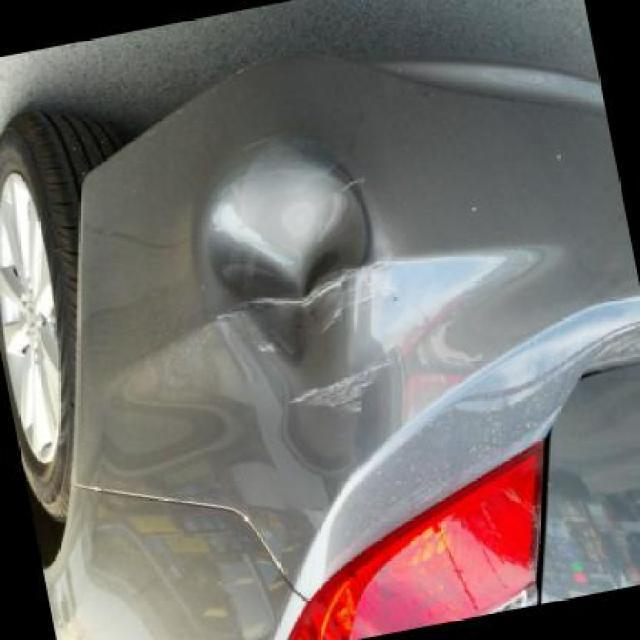dent: (155, 135, 542, 512)
